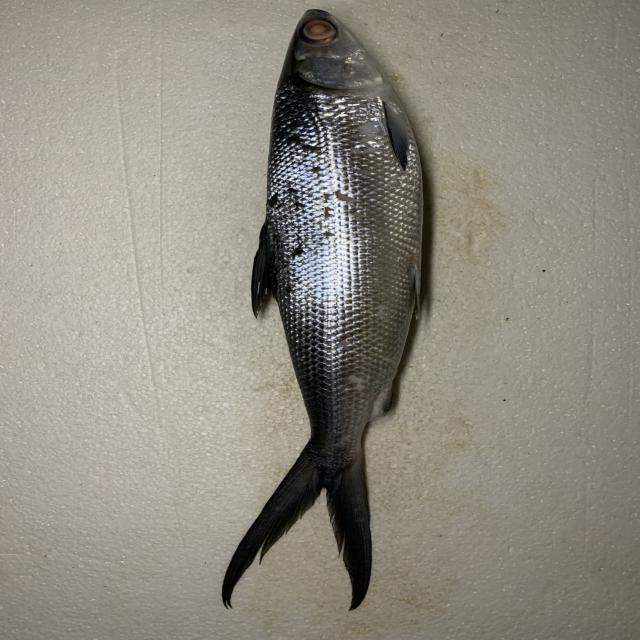Bangus-F -6-10-: (224, 6, 459, 640)
Eye -2-: (294, 16, 342, 44)
Skin-5-: (282, 101, 415, 434)
